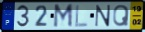2: (34, 5, 48, 28)
3: (15, 4, 31, 29)
L: (74, 4, 89, 28)
M: (53, 4, 74, 29)
N: (94, 4, 112, 28)
Q: (112, 4, 130, 27)
